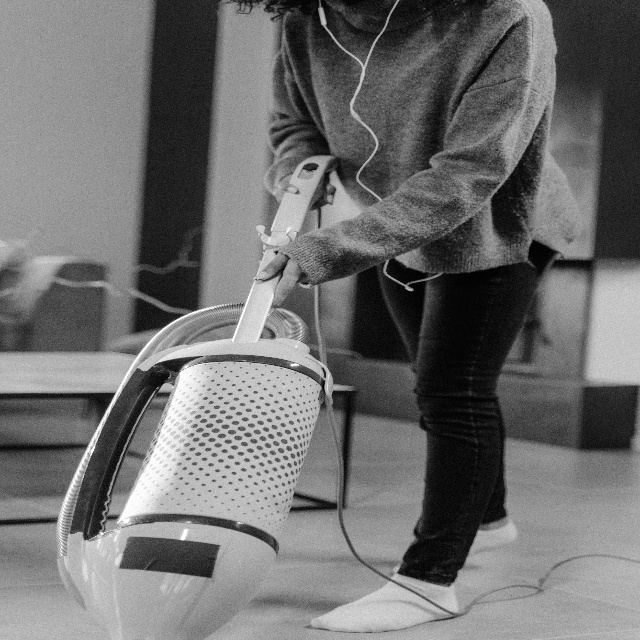Sin_guantes: (253, 250, 309, 316)
